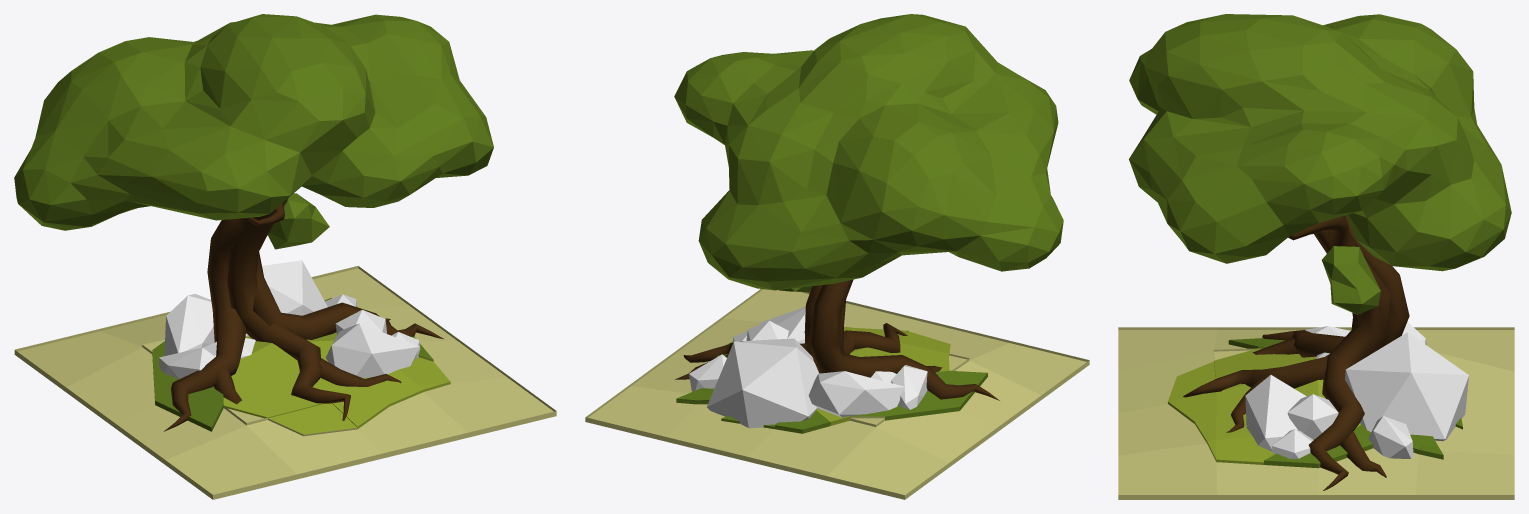
Rendered from tree_oak.fbx.
The picture shows the model from 3 angles, left to right: view 1: azimuth 30°, elevation 25°; view 2: azimuth 150°, elevation 25°; view 3: azimuth 270°, elevation 25°; orthographic projection. The views are drawn at different scales.
Parts seen in each view (by area): view 1: Mball.019, Plane, NurbsPath.005, NurbsPath.004, Icosphere.004, NurbsPath.003, Icosphere.001, Icosphere.005, Icosphere.006, Icosphere; view 2: Mball.019, Plane, Icosphere.001, NurbsPath.004, Icosphere.005, NurbsPath.005, Icosphere.006, NurbsPath.003, Icosphere.003, Icosphere.004, Icosphere; view 3: Mball.019, Plane, Icosphere.001, NurbsPath.003, NurbsPath.004, NurbsPath.005, Icosphere.004, Icosphere, Icosphere.003, Icosphere.002.
Boxes of the visible parts, box(x1,y1,x2,y2) form: Mball.019: box(14, 14, 493, 249); Plane: box(14, 266, 556, 499); NurbsPath.005: box(227, 203, 401, 420); NurbsPath.004: box(163, 218, 247, 431); Icosphere.004: box(325, 323, 419, 378); NurbsPath.003: box(253, 198, 443, 339); Icosphere.001: box(211, 260, 327, 336); Icosphere.005: box(164, 293, 214, 355); Icosphere.006: box(159, 347, 214, 379); Icosphere: box(335, 309, 386, 335); Mball.019: box(674, 14, 1063, 292); Plane: box(585, 289, 1089, 499); Icosphere.001: box(707, 338, 819, 428); NurbsPath.004: box(808, 279, 999, 400); Icosphere.005: box(808, 371, 905, 417); NurbsPath.005: box(838, 299, 907, 354); Icosphere.006: box(891, 365, 927, 409); NurbsPath.003: box(675, 285, 822, 379); Icosphere.003: box(689, 354, 726, 391); Icosphere.004: box(759, 307, 805, 343); Icosphere: box(746, 320, 788, 340); Mball.019: box(1129, 14, 1511, 314); Plane: box(1118, 327, 1514, 499); Icosphere.001: box(1345, 332, 1468, 441); NurbsPath.003: box(1288, 216, 1390, 490); NurbsPath.004: box(1252, 215, 1409, 357); NurbsPath.005: box(1183, 230, 1376, 432); Icosphere.004: box(1245, 375, 1306, 451); Icosphere: box(1287, 394, 1338, 439); Icosphere.003: box(1368, 416, 1413, 458); Icosphere.002: box(1271, 429, 1313, 458).
Size of the model in its own units: 566 by 534 by 464.
